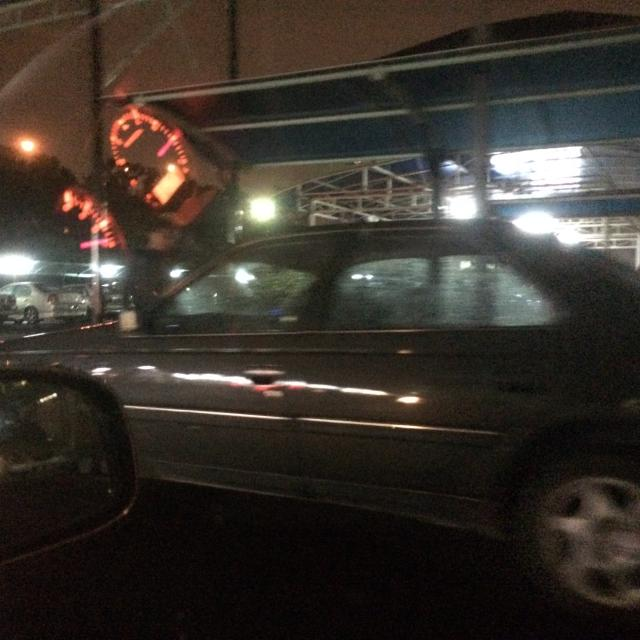Car: (41, 206, 640, 552)
